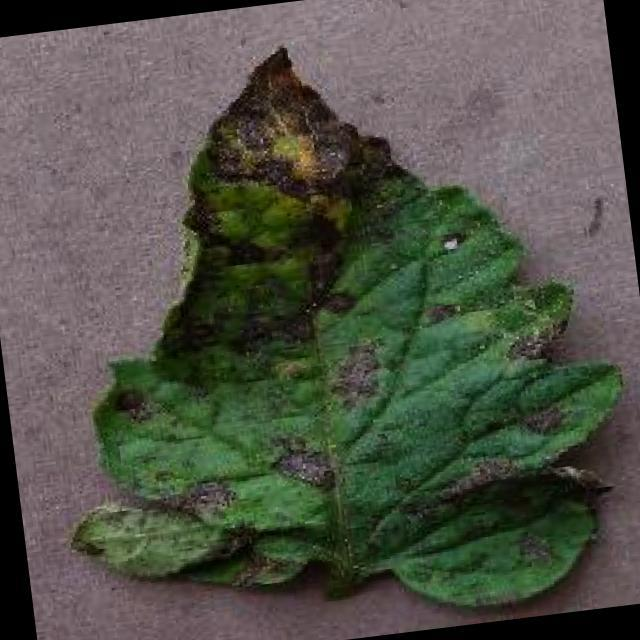Tomato Early blight leaf: (21, 3, 640, 640)
